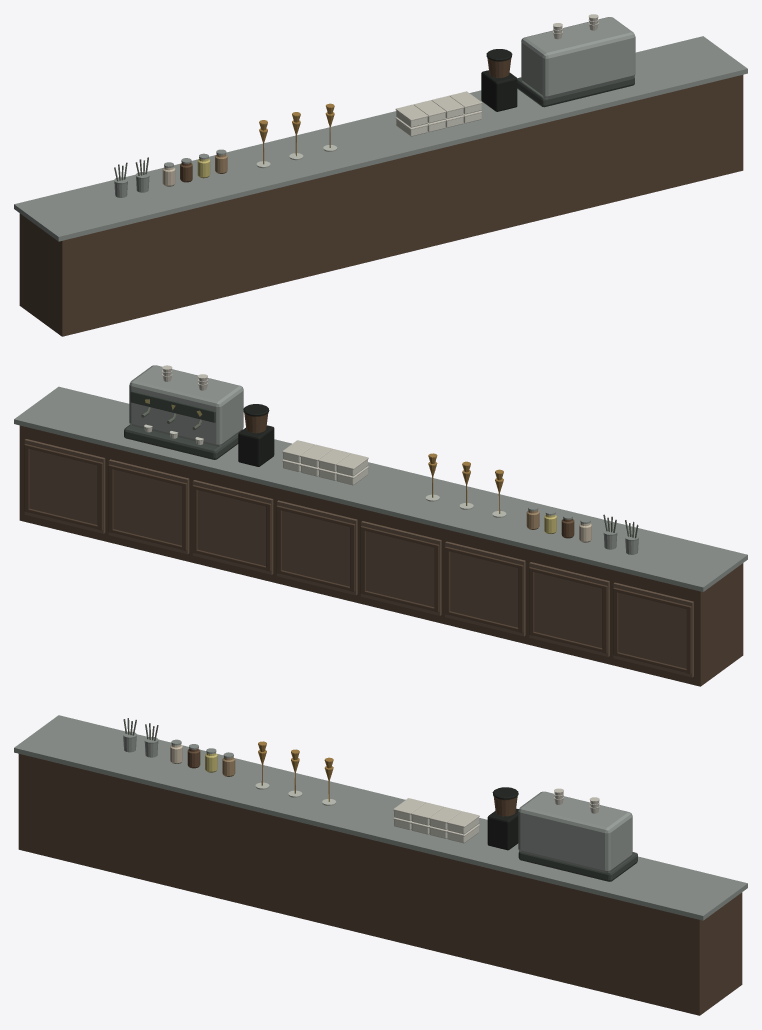
The model's file is back.glb.
3 views of the same model, one above another, from view 1: azimuth 30°, elevation 25°; view 2: azimuth 150°, elevation 25°; view 3: azimuth 330°, elevation 25° (orthographic).
Parts seen in each view (by area): view 1: Gelati_back; view 2: Gelati_back; view 3: Gelati_back.
Boxes of the visible parts, <box> form: Gelati_back: <box>14,14,747,336</box>; Gelati_back: <box>14,365,747,686</box>; Gelati_back: <box>14,715,747,1015</box>.
Size of the model in its own units: 6.72 by 1.58 by 0.7744.
